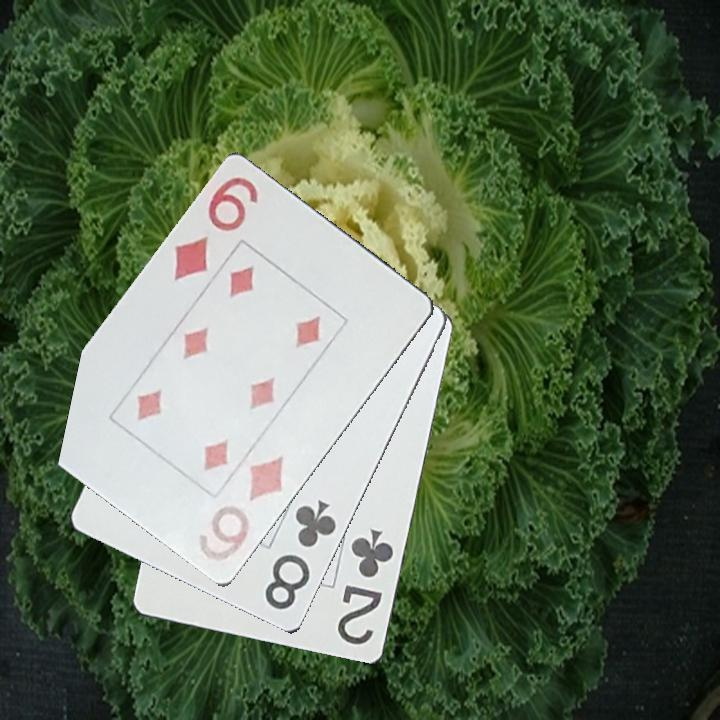2c: (333, 526, 397, 649)
6d: (195, 452, 287, 566), (170, 170, 262, 284)
8c: (261, 496, 340, 614)
